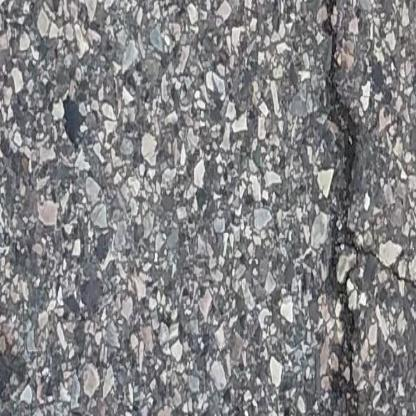Cracks: (324, 0, 354, 246), (331, 255, 366, 416)
